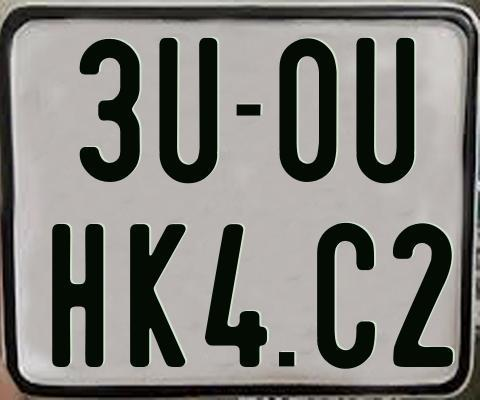0: (278, 38, 342, 185)
2: (392, 220, 453, 369)
3: (78, 38, 145, 184)
4: (203, 222, 270, 367)
C: (317, 221, 375, 373)
H: (51, 221, 108, 370)
K: (127, 222, 189, 367)
U: (157, 35, 221, 183), (354, 36, 413, 187)
